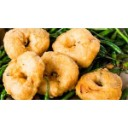vada: (4, 52, 41, 99), (38, 51, 78, 94), (54, 27, 99, 65), (3, 28, 52, 57), (77, 69, 123, 99)
